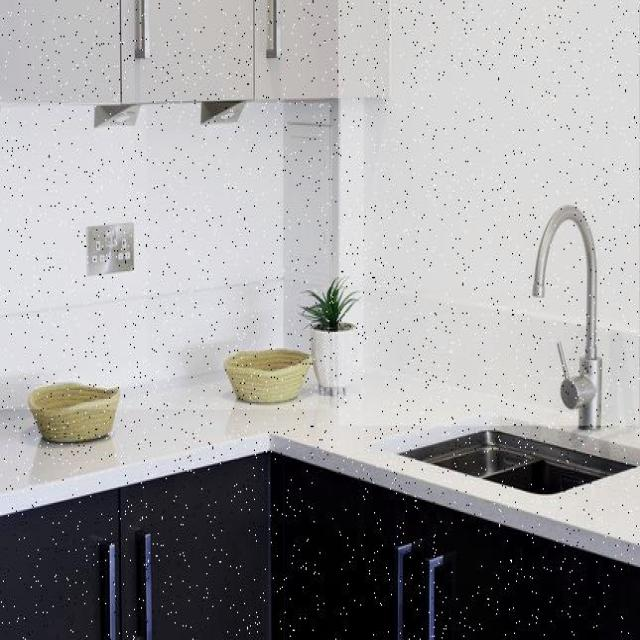Wall: (339, 0, 640, 426), (0, 104, 329, 409), (0, 107, 147, 384)
